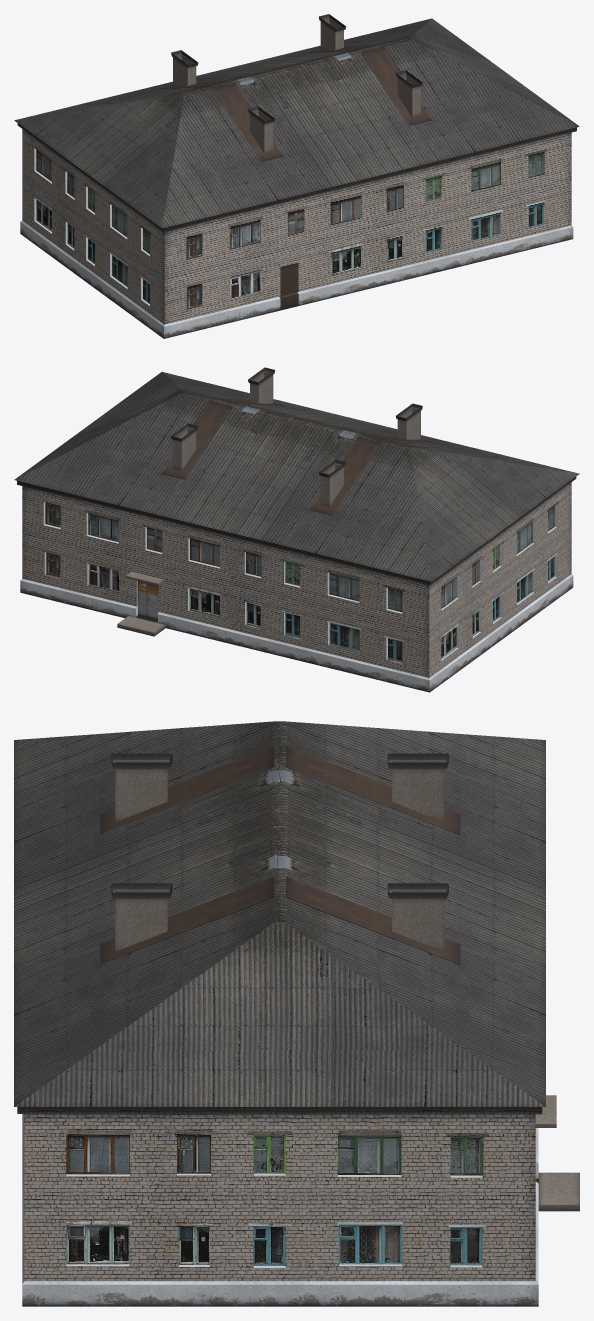
File: ru_small_house_2.obj
The picture shows the model from 3 angles, top to bottom: view 1: azimuth 30°, elevation 25°; view 2: azimuth 150°, elevation 25°; view 3: azimuth 270°, elevation 25°; orthographic projection. The views are drawn at different scales.
Visible parts, largest first — view 1: ru_small_house_2; view 2: ru_small_house_2; view 3: ru_small_house_2.
Part boxes in pixels (x1,y1,x2,y2): ru_small_house_2: (14,14,579,338); ru_small_house_2: (14,367,579,692); ru_small_house_2: (14,721,579,1306).
Size of the model in its own units: 17.6 by 6.84 by 11.47.
Materials: 1 (1 with a texture image).
